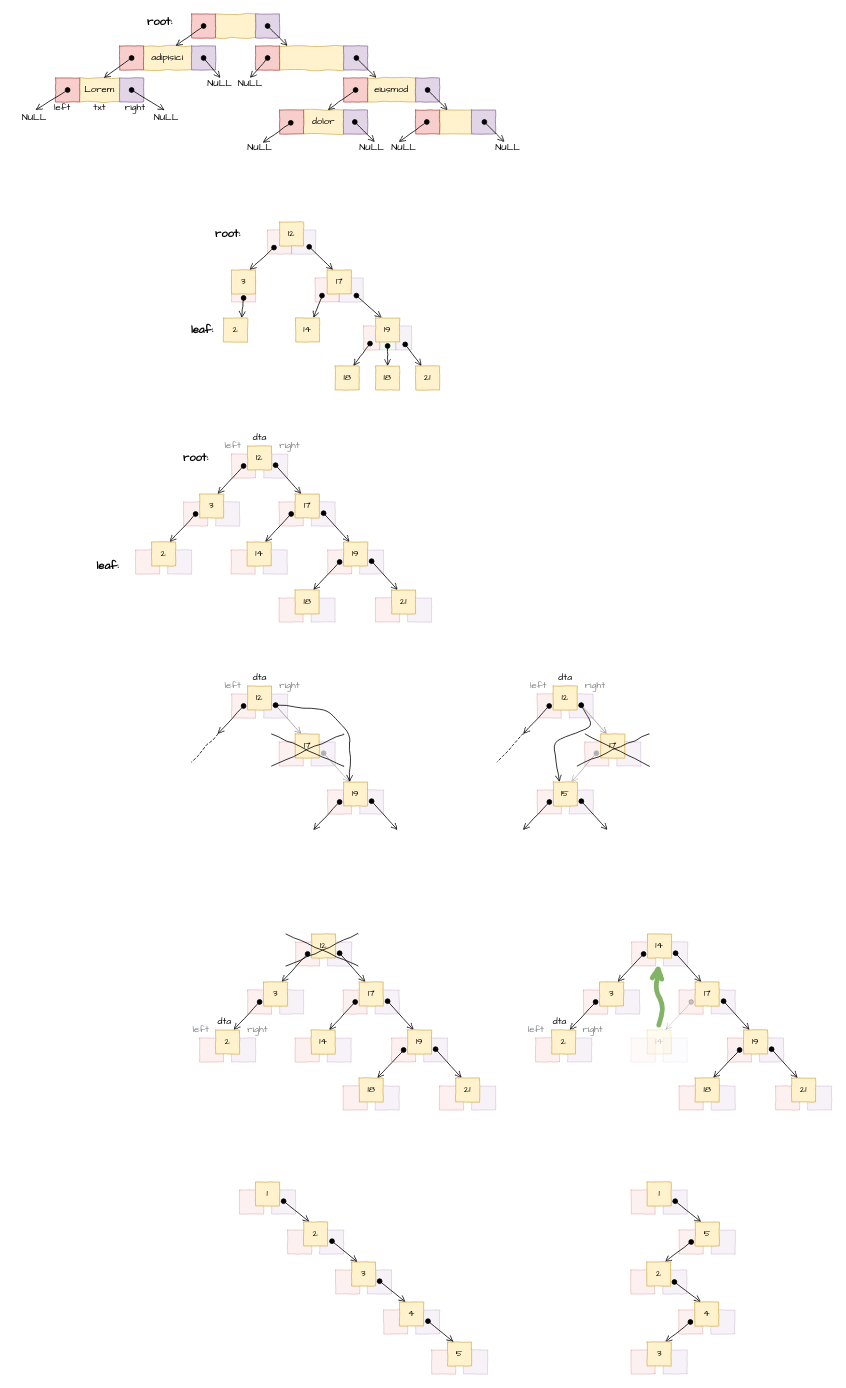
Some shapes in this 846 by 1388 pixel diagram are drawn without their labels. Each missing label, with the centre of its shape:
"amet" belongs at (x=235, y=25).
"consectetur" belongs at (x=311, y=57).
"elit" belongs at (x=455, y=121).
